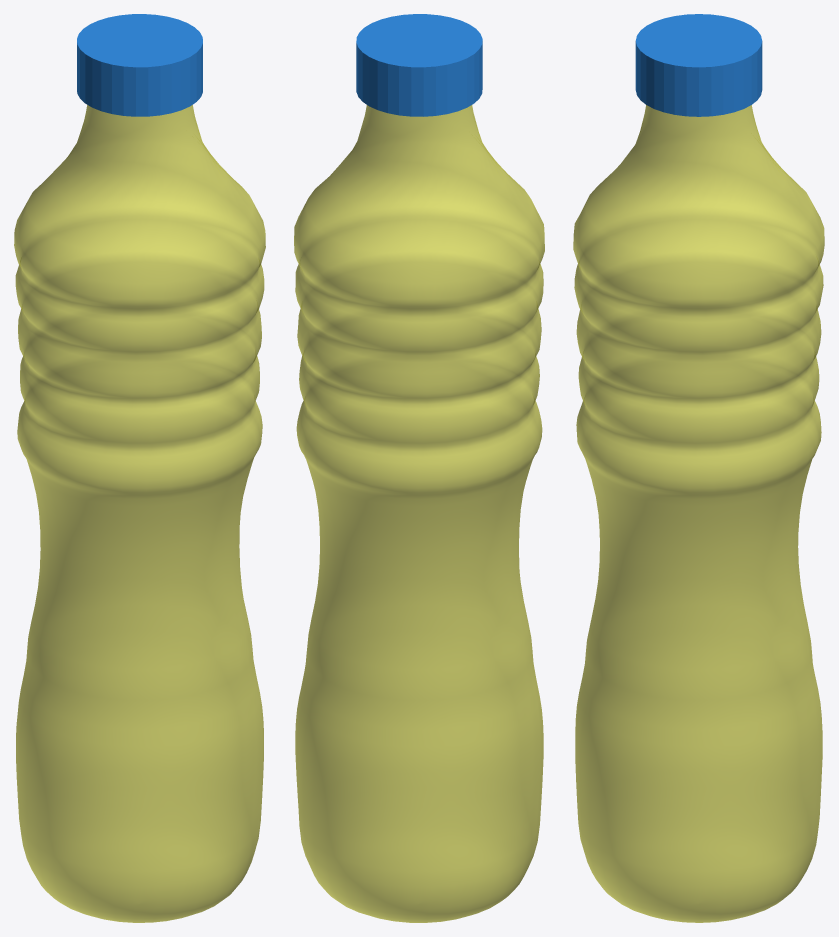
The model's file is butilka 1.fbx.
The picture shows the model from 3 angles, left to right: view 1: azimuth 30°, elevation 25°; view 2: azimuth 150°, elevation 25°; view 3: azimuth 270°, elevation 25°; orthographic projection.
Visible parts, largest first — view 1: Plane, Cylinder; view 2: Plane, Cylinder; view 3: Plane, Cylinder.
Part boxes in pixels (bbox=[...]): Plane: bbox=[14, 105, 265, 922]; Cylinder: bbox=[77, 14, 202, 116]; Plane: bbox=[294, 105, 544, 922]; Cylinder: bbox=[356, 14, 482, 116]; Plane: bbox=[573, 105, 824, 922]; Cylinder: bbox=[635, 14, 762, 116].
Bounding box in the file's own units: 122 × 462 × 122.
